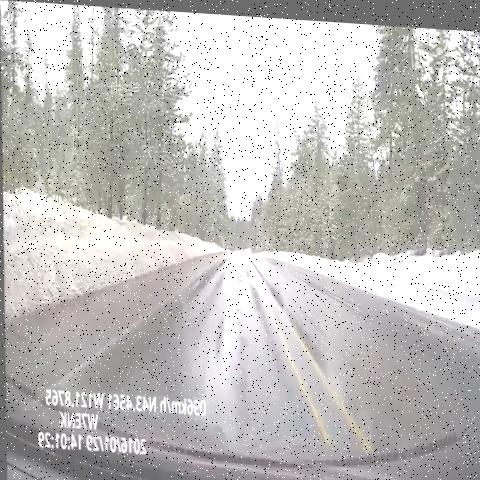pothole: (226, 290, 247, 322), (226, 260, 249, 288), (243, 270, 262, 299)
